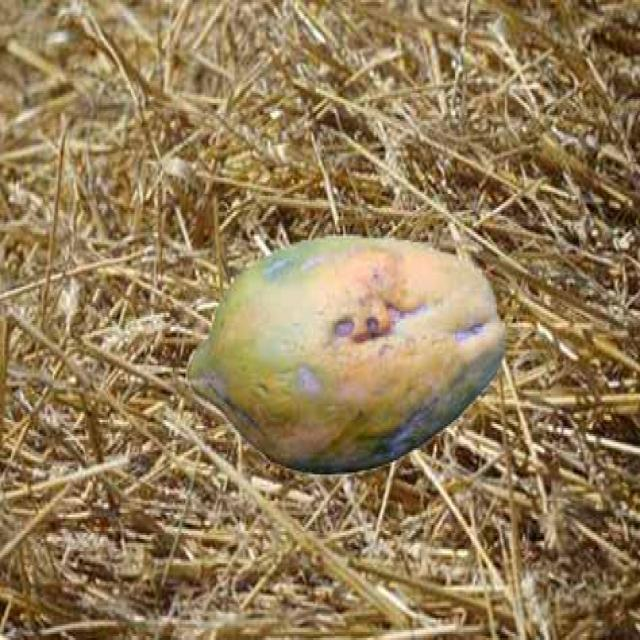Pepaya rippen: (178, 230, 506, 473)
